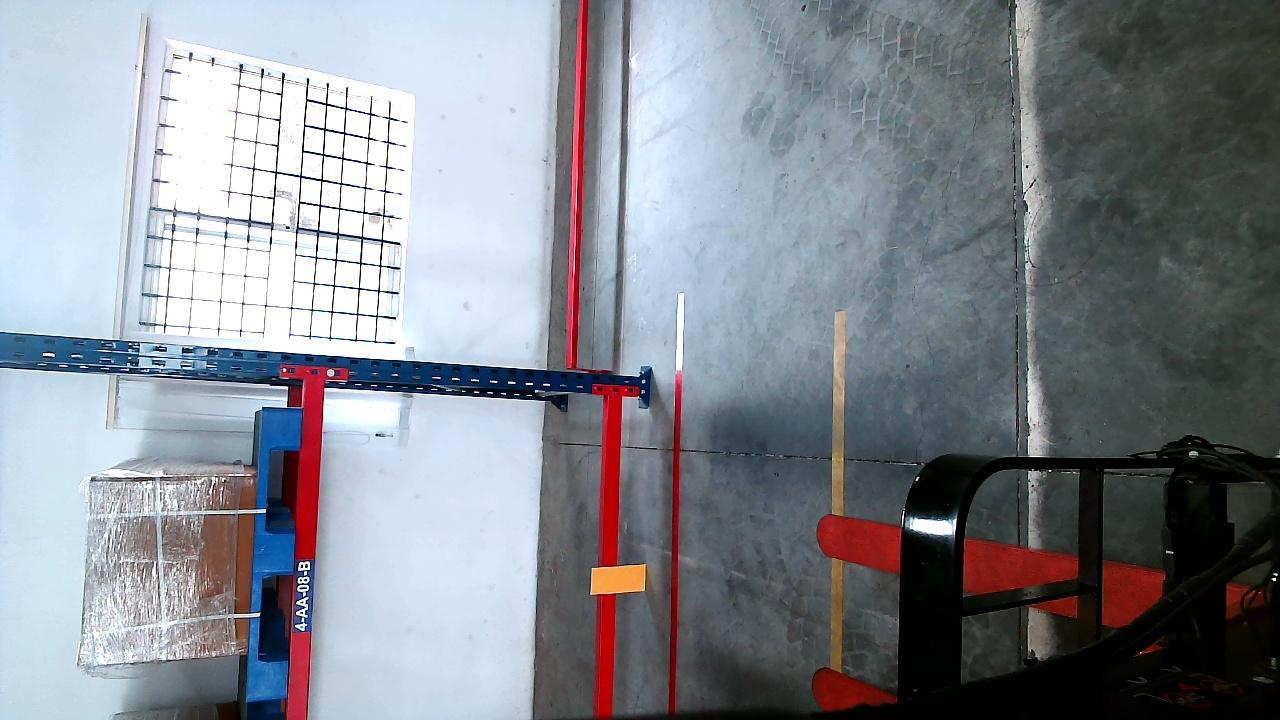red_line: (666, 294, 685, 714)
yellow_line: (825, 312, 849, 681)
